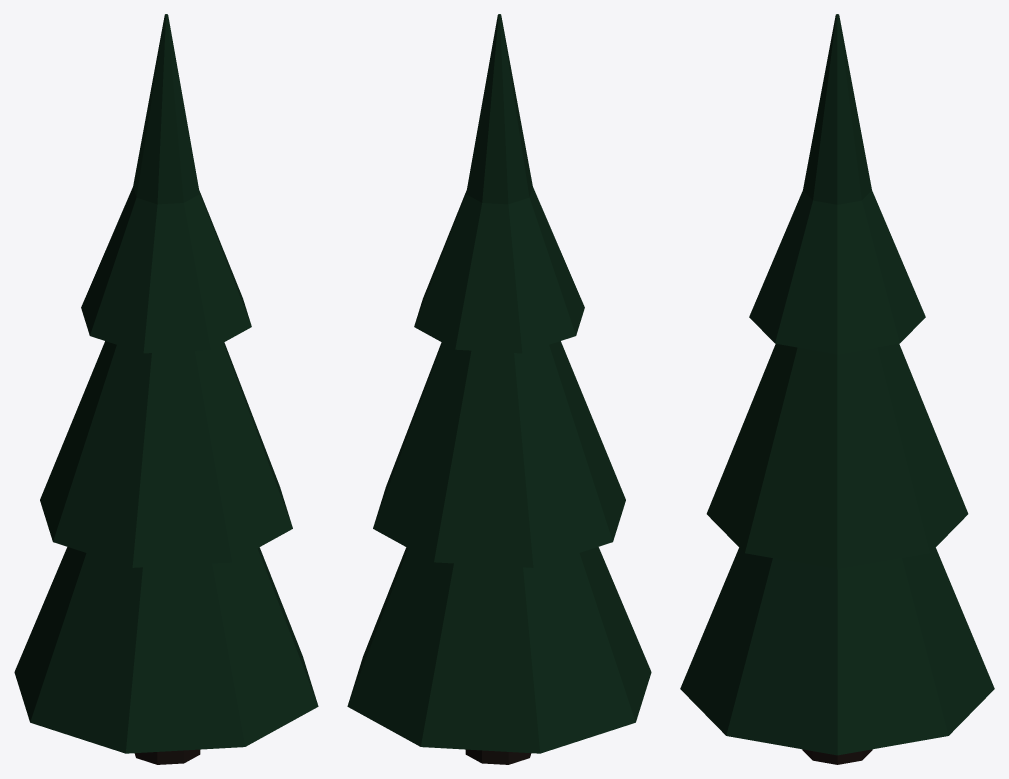
File: tree.obj
The picture shows the model from 3 angles, left to right: view 1: azimuth 30°, elevation 25°; view 2: azimuth 150°, elevation 25°; view 3: azimuth 270°, elevation 25°; orthographic projection.
Visible parts, largest first — view 1: Cylinder; view 2: Cylinder; view 3: Cylinder.
Part boxes in pixels (x1,y1,x2,y2): Cylinder: [14, 14, 318, 764]; Cylinder: [347, 14, 651, 764]; Cylinder: [680, 14, 994, 764].
Size of the model in its own units: 9.18 by 23.66 by 9.18.
